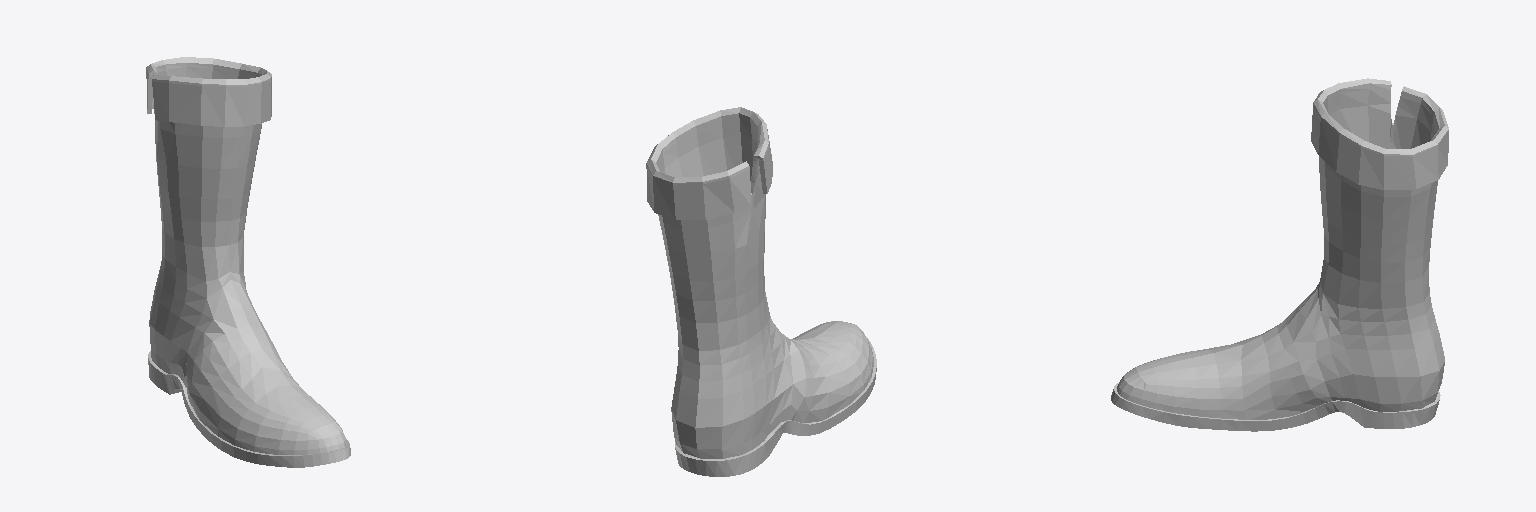
File: botte_droite.obj
3 views of the same model, side by side, from view 1: azimuth 30°, elevation 25°; view 2: azimuth 150°, elevation 25°; view 3: azimuth 270°, elevation 25° (orthographic).
Parts seen in each view (by area): view 1: Soi_SimpleArmor_Boots.002_Plane.017; view 2: Soi_SimpleArmor_Boots.002_Plane.017; view 3: Soi_SimpleArmor_Boots.002_Plane.017.
Boxes of the visible parts, x1=… form: Soi_SimpleArmor_Boots.002_Plane.017: x1=146, y1=57, x2=350, y2=467; Soi_SimpleArmor_Boots.002_Plane.017: x1=646, y1=107, x2=876, y2=476; Soi_SimpleArmor_Boots.002_Plane.017: x1=1111, y1=78, x2=1448, y2=431.
Bounding box in the file's own units: 0.1501 × 0.3778 × 0.3565.